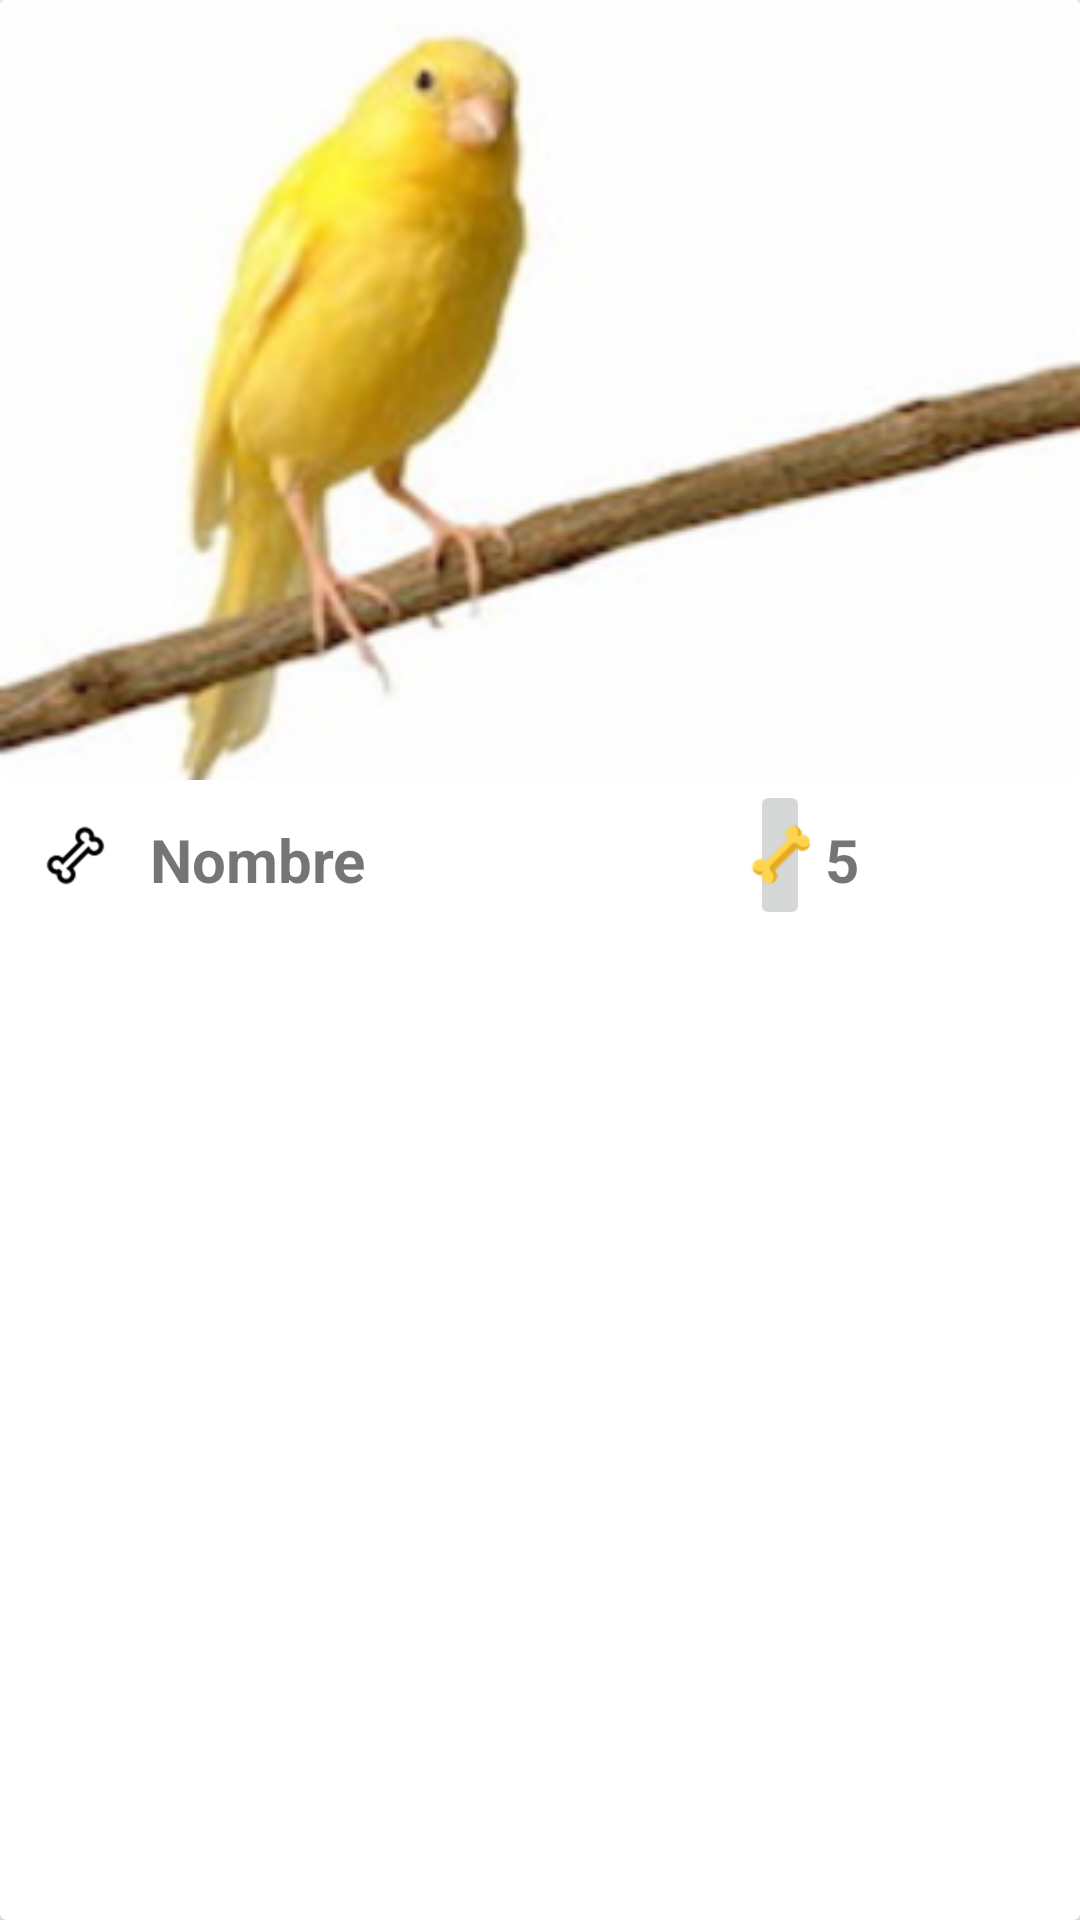

Screen size 1080×1920. Icon name, then its center in pixels as (x=x, y=y):
bone: (x=781, y=855), (x=75, y=855)
